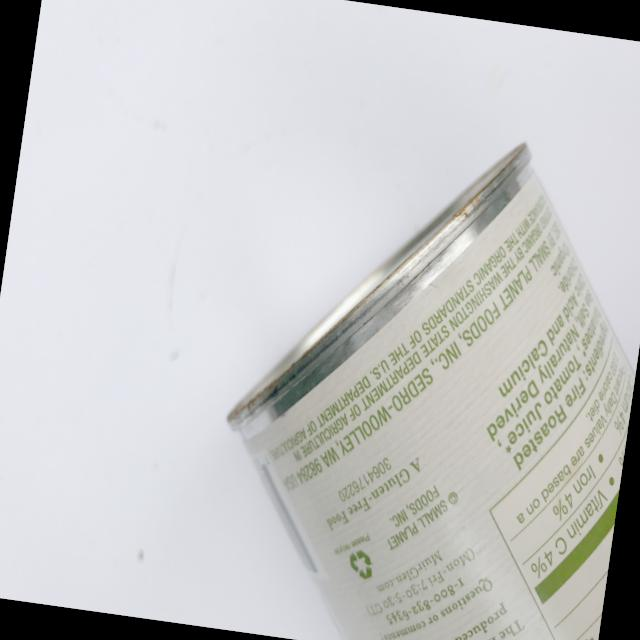Metal: (176, 95, 640, 640)
